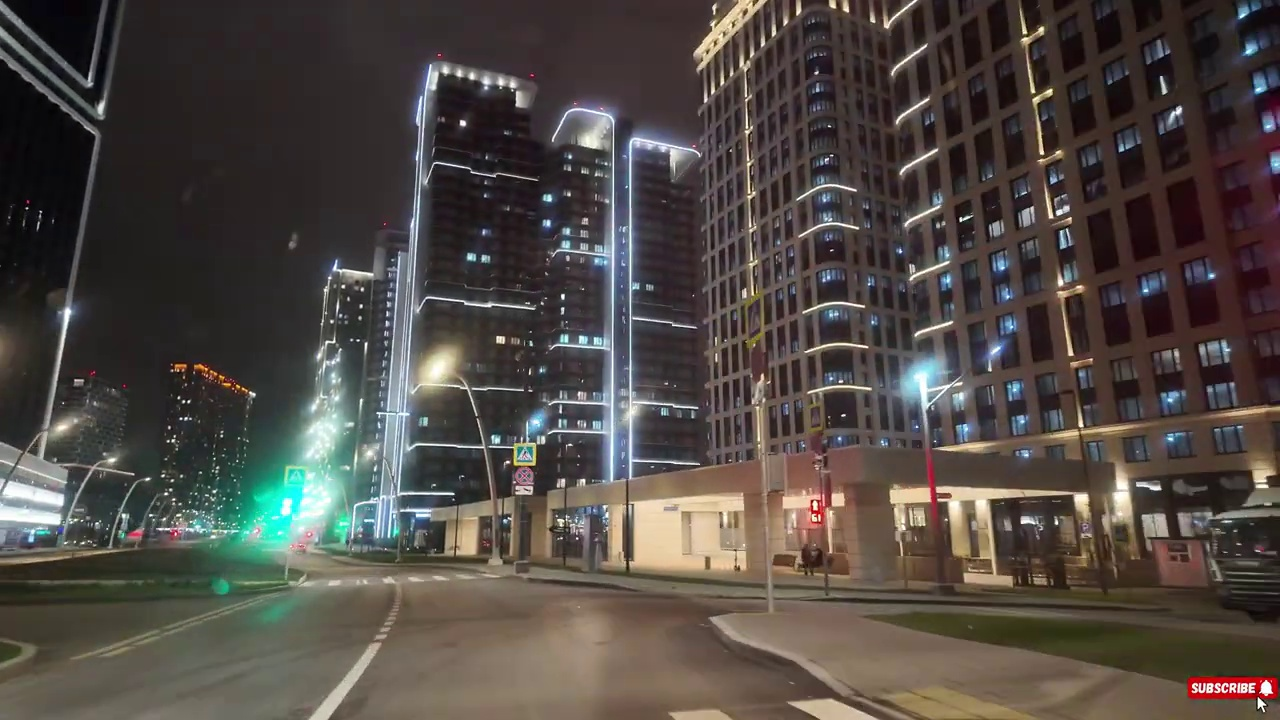acesa: (415, 344, 461, 391)
